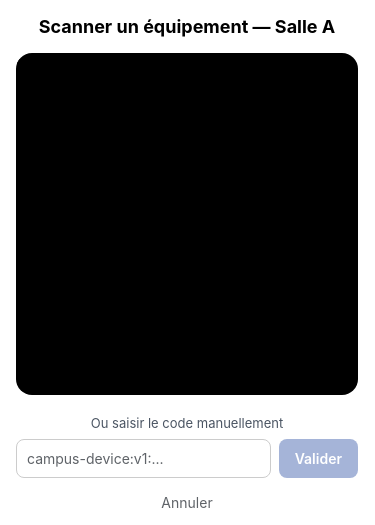
permission accordée : un scan valide associe l'équipement et affiche le succès
Click the element with test id "fake-camera" at (41, 62), box left=16, top=53, right=66, bottom=70
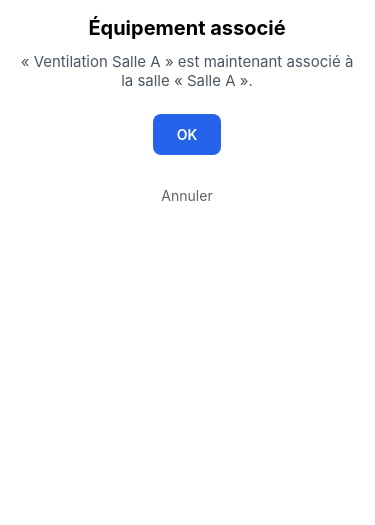
Check: the text "Ventilation Salle A" is shown, box left=34, top=52, right=161, bottom=71
